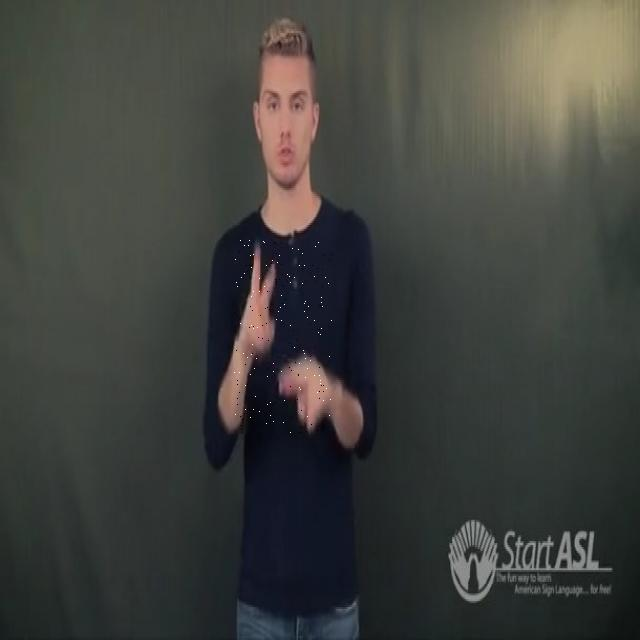salt: (234, 240, 332, 435)
